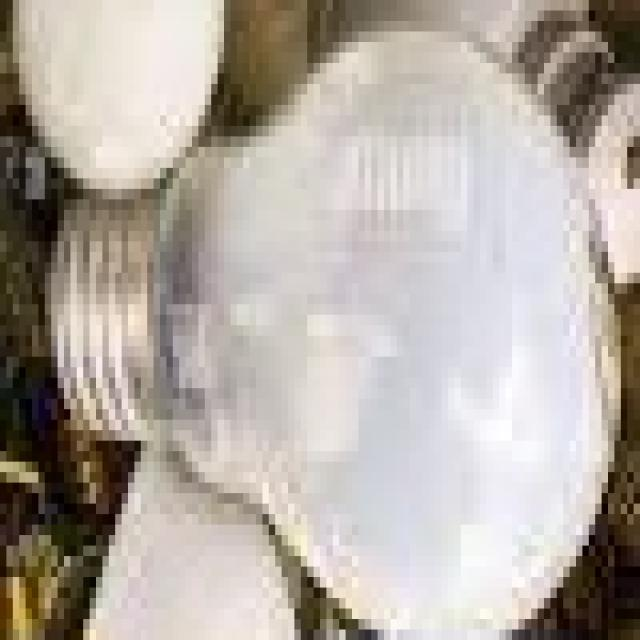bulb: (13, 0, 640, 598)
